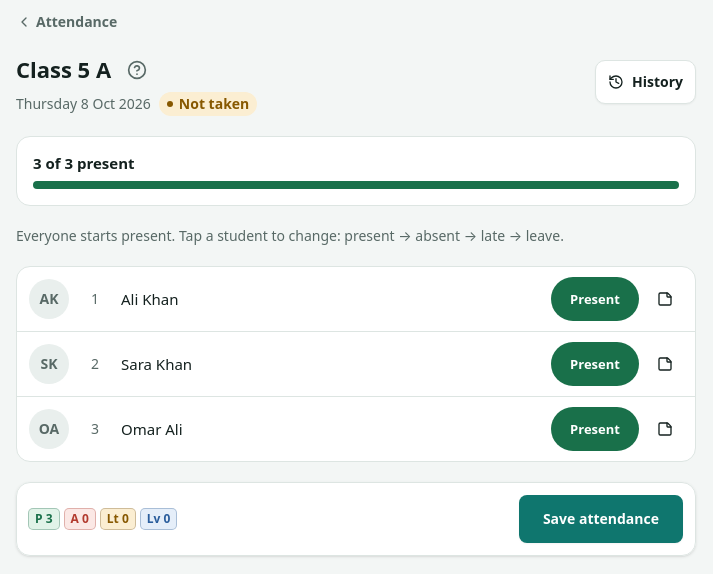
Test: attendance register (M7b-2) › shows progress first and keeps it live as marks cycle P → A → L → E
The image size is (713, 574).
Expected: the text "3 of 3 present" is shown, [33, 153, 134, 173]
Click the button with aria-label "Sara Khan:".
click(49, 364)  # box [17, 332, 639, 396]
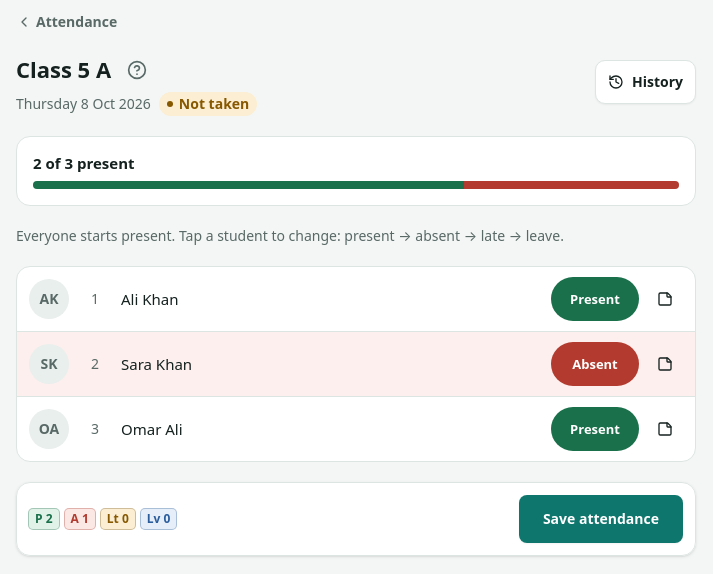
Expected: the text "2 of 3 present" is shown, [33, 153, 134, 173]
Expected: the element titled "Absent" reads "A 1", [64, 509, 95, 529]
Click the button with aria-label "Sara Khan:".
click(49, 364)  # box [17, 332, 639, 396]
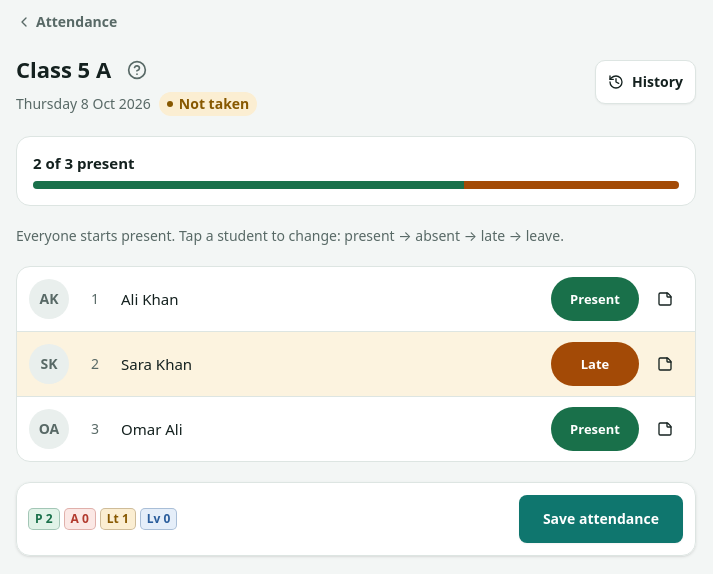
Click the button with aria-label "Sara Khan:".
click(49, 364)  # box [17, 332, 639, 396]
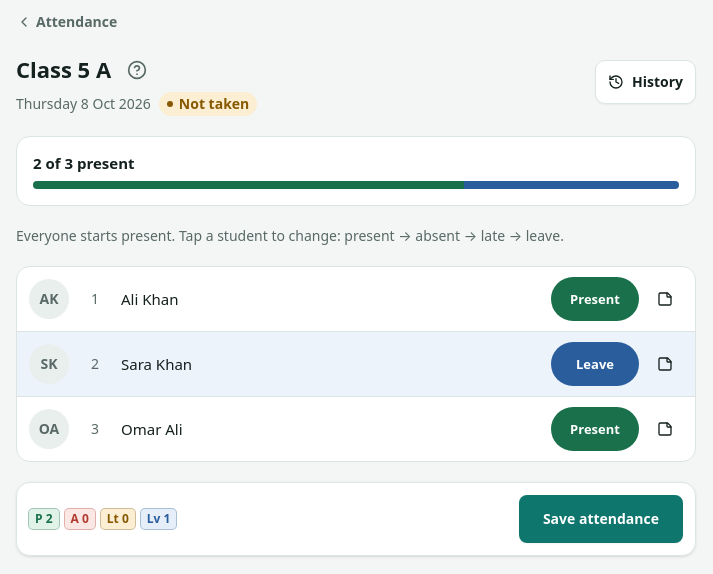
Expected: the button with aria-label "Sara Khan:" has attribute aria-label="Sara Khan: Leave"
Click the button with aria-label "Sara Khan:".
click(49, 364)  # box [17, 332, 639, 396]
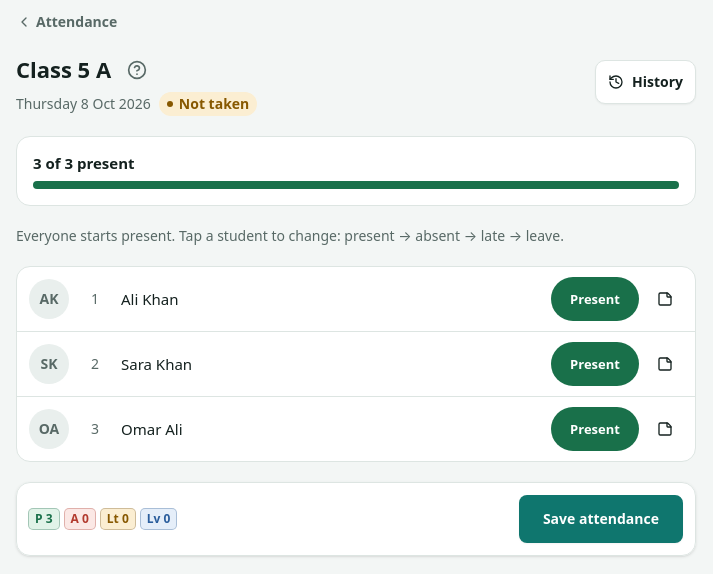
Expected: the text "3 of 3 present" is shown, [33, 153, 134, 173]
